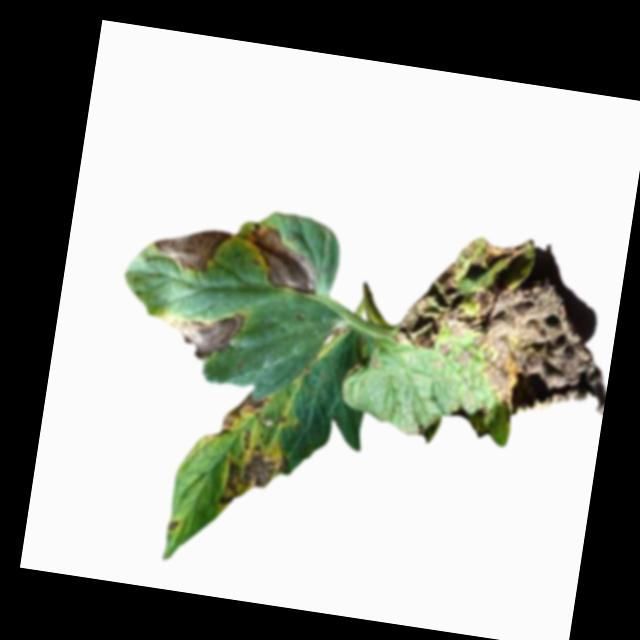Early_blight: (383, 221, 627, 434), (217, 434, 295, 519), (239, 223, 323, 296), (161, 301, 247, 367), (150, 221, 233, 278), (217, 390, 271, 440), (166, 518, 181, 534)
